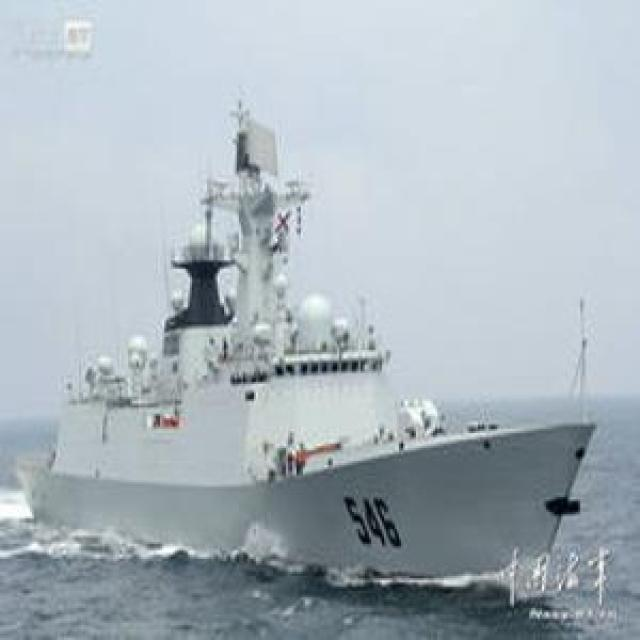navalvessels: (30, 100, 600, 578)
